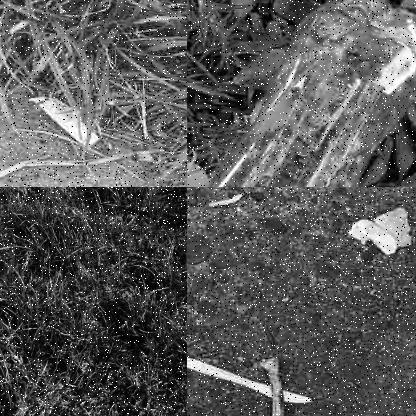plastic: (187, 0, 415, 186), (35, 94, 101, 151)
